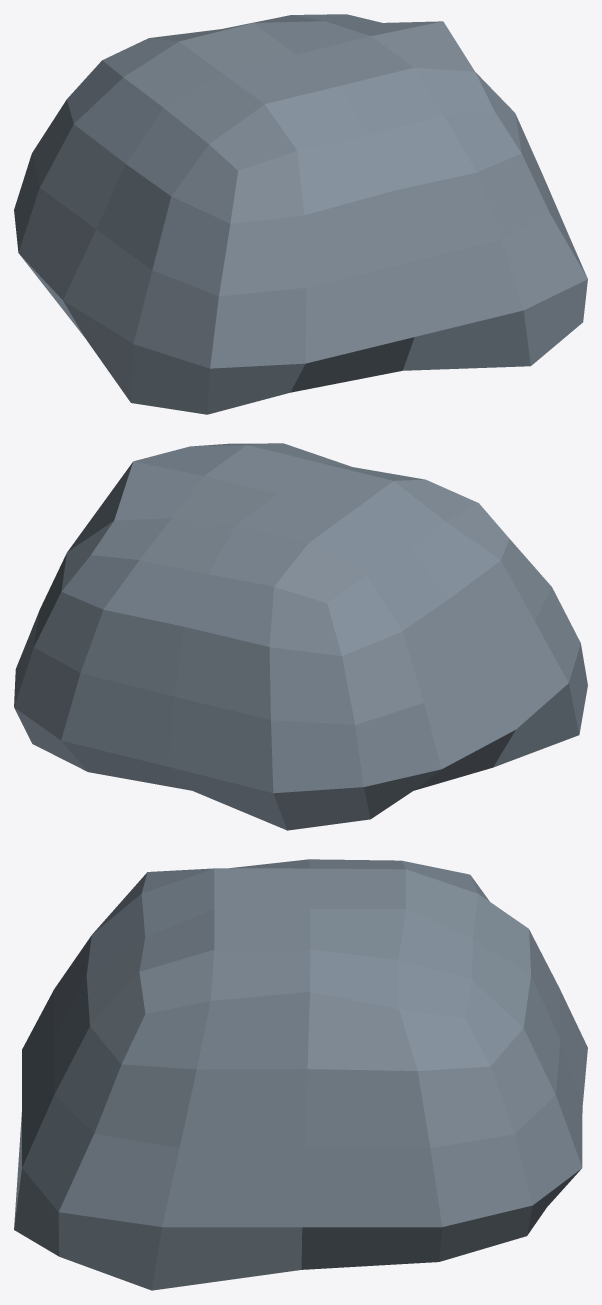
Rendered from Stone2.obj.
3 views of the same model, one above another, from view 1: azimuth 30°, elevation 25°; view 2: azimuth 150°, elevation 25°; view 3: azimuth 270°, elevation 25° (orthographic). The views are drawn at different scales.
Parts seen in each view (by area): view 1: Куб.016; view 2: Куб.016; view 3: Куб.016.
Boxes of the visible parts, left/top/right/bottom form: Куб.016: left=14, top=14, right=587, bottom=414; Куб.016: left=14, top=443, right=587, bottom=830; Куб.016: left=14, top=859, right=587, bottom=1290.
Bounding box in the file's own units: 1.45 × 0.7597 × 1.44.
